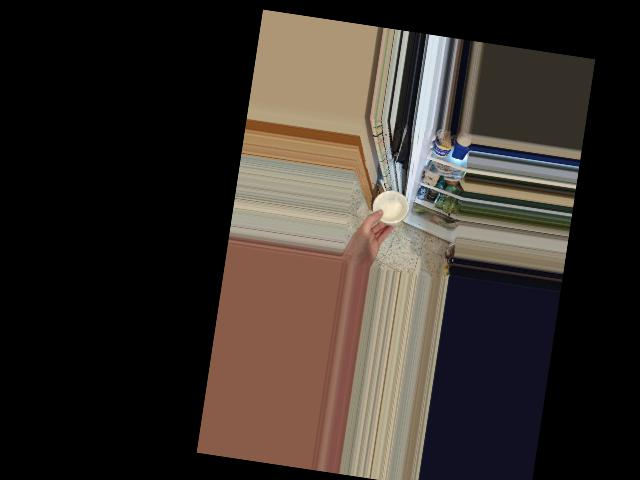cotage: (371, 185, 411, 226)
